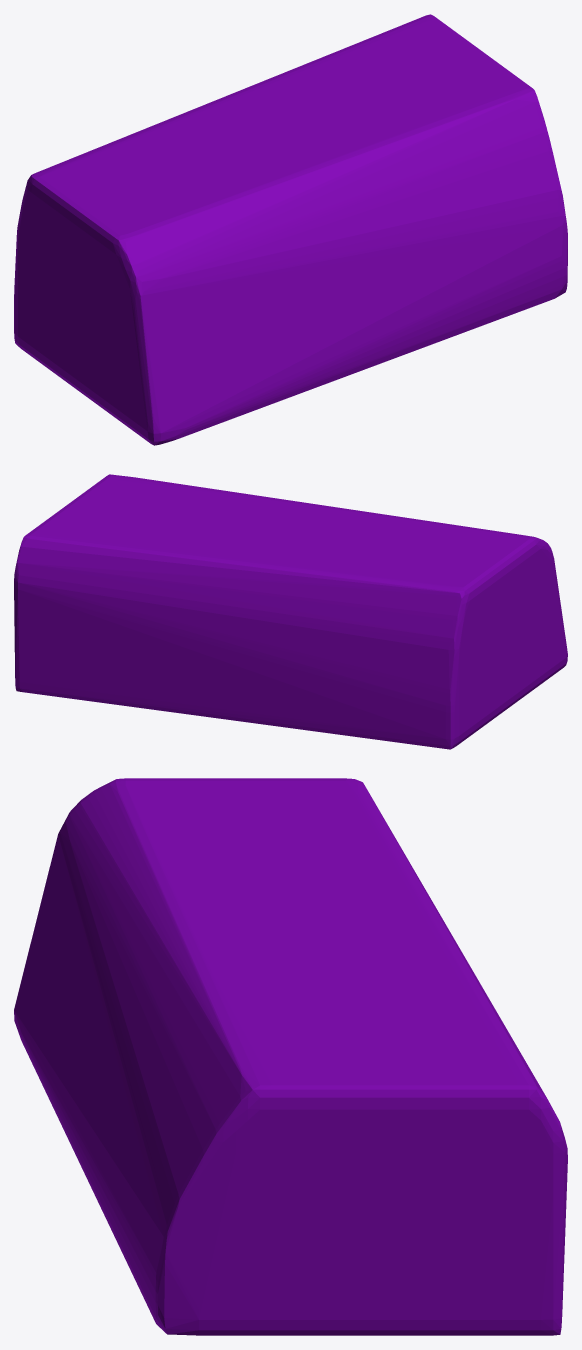
The model's file is right-elbow-0_part_32.obj.
3 views of the same model, one above another, from view 1: azimuth 30°, elevation 25°; view 2: azimuth 150°, elevation 25°; view 3: azimuth 270°, elevation 25° (orthographic). The views are drawn at different scales.
Size of the model in its own units: 0.0556 by 0.0204 by 0.0413.
